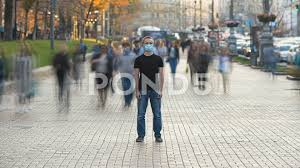masked: (141, 34, 157, 55)
